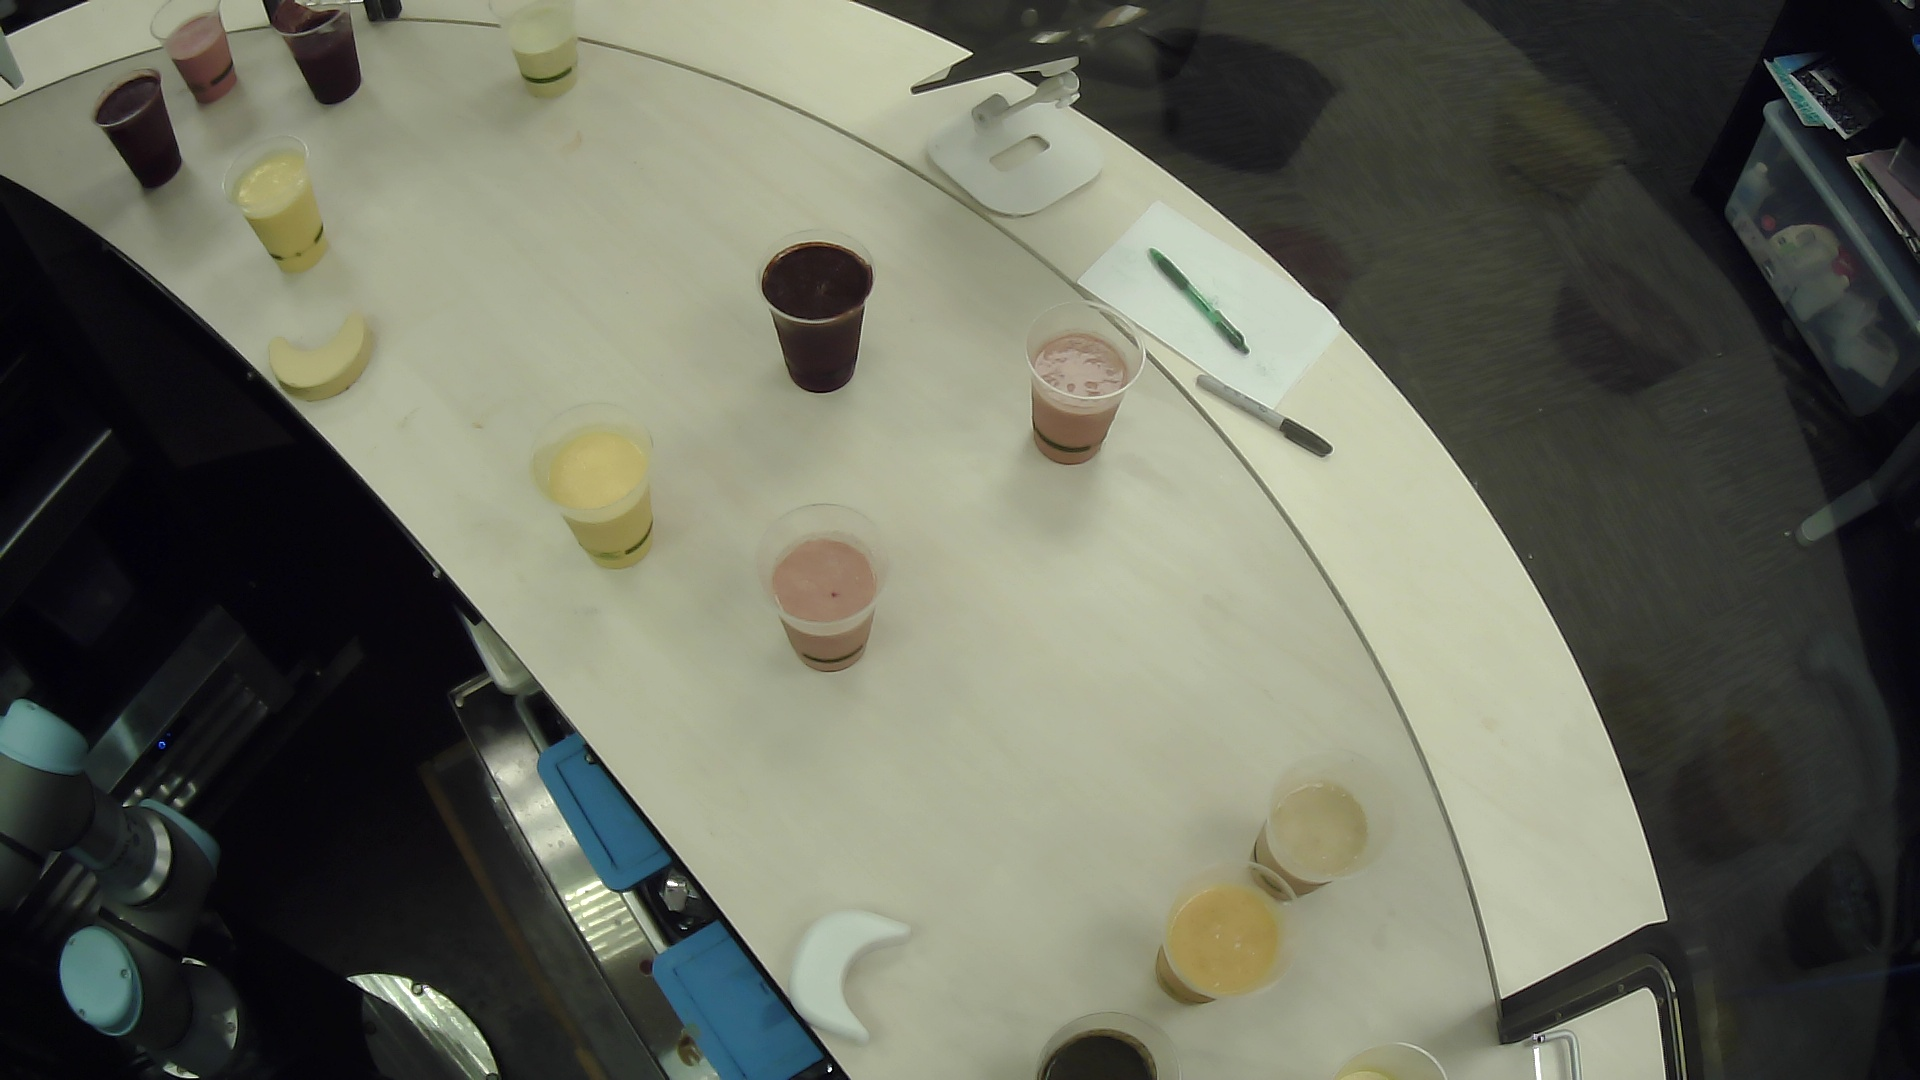Deliver: (782, 884, 956, 1062), (252, 290, 415, 436)
Full_cup: (720, 214, 898, 414), (732, 495, 898, 690), (1013, 291, 1158, 495), (520, 401, 679, 582), (1131, 857, 1308, 1013), (1246, 746, 1418, 902), (210, 136, 345, 287), (76, 55, 204, 194), (249, 1, 398, 117), (1014, 988, 1175, 1080), (481, 1, 603, 109), (146, 1, 251, 109), (1298, 1011, 1461, 1080)
